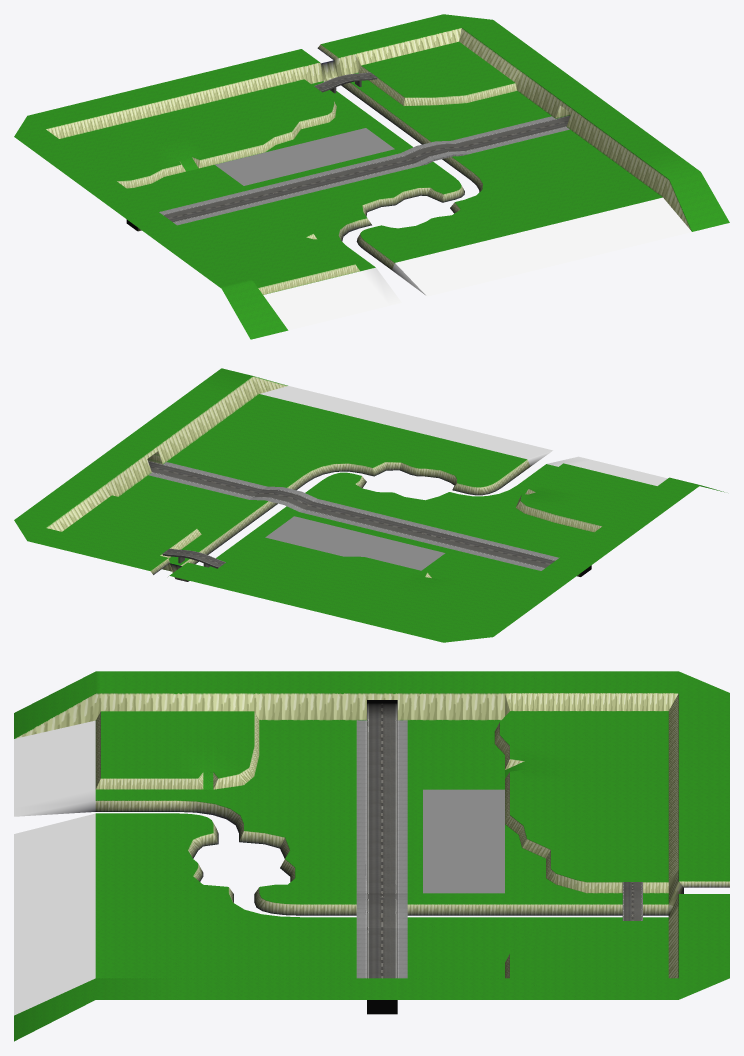
File: island-8x7.glb
3 renders of one model, top to bottom at view 1: azimuth 30°, elevation 25°; view 2: azimuth 150°, elevation 25°; view 3: azimuth 270°, elevation 25°, orthographic. The views are drawn at different scales.
Parts seen in each view (by area): view 1: island-8x7-grass-col, island-8x7-cliff-col, island-8x7-sand-col, island-8x7-road-col, island-8x7-city-col, island-8x7-sidewalk-col; view 2: island-8x7-grass-col, island-8x7-cliff-col, island-8x7-sand-col, island-8x7-road-col, island-8x7-city-col, island-8x7-sidewalk-col; view 3: island-8x7-grass-col, island-8x7-cliff-col, island-8x7-sand-col, island-8x7-road-col, island-8x7-city-col, island-8x7-sidewalk-col.
Boxes of the visible parts, <box> form: island-8x7-grass-col: <box>14,14,729,339</box>; island-8x7-cliff-col: <box>46,27,691,294</box>; island-8x7-sand-col: <box>263,197,691,330</box>; island-8x7-road-col: <box>163,72,570,222</box>; island-8x7-city-col: <box>215,128,394,185</box>; island-8x7-sidewalk-col: <box>159,116,569,225</box>; island-8x7-grass-col: <box>14,368,724,642</box>; island-8x7-cliff-col: <box>46,376,602,581</box>; island-8x7-sand-col: <box>260,386,667,485</box>; island-8x7-road-col: <box>148,461,555,568</box>; island-8x7-city-col: <box>265,516,445,570</box>; island-8x7-sidewalk-col: <box>148,462,559,570</box>; island-8x7-grass-col: <box>14,671,729,1041</box>; island-8x7-cliff-col: <box>14,693,729,978</box>; island-8x7-sand-col: <box>14,720,95,1015</box>; island-8x7-road-col: <box>367,703,642,978</box>; island-8x7-city-col: <box>423,789,504,893</box>; island-8x7-sidewalk-col: <box>356,720,407,978</box>.
Size of what is drawn, in the model's own units: 152 by 9 by 140.
Materials: 7 (4 with a texture image).
